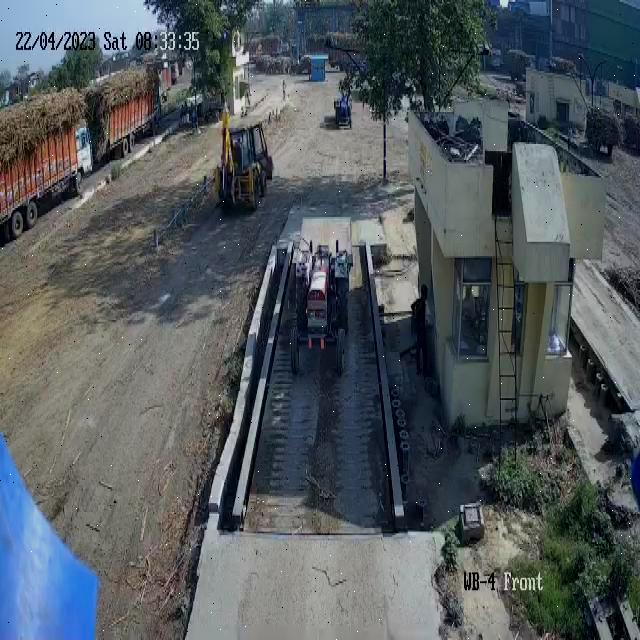Tratores - v5 YOLO V8L 2024-11-13: (290, 237, 348, 391), (330, 92, 356, 132)
